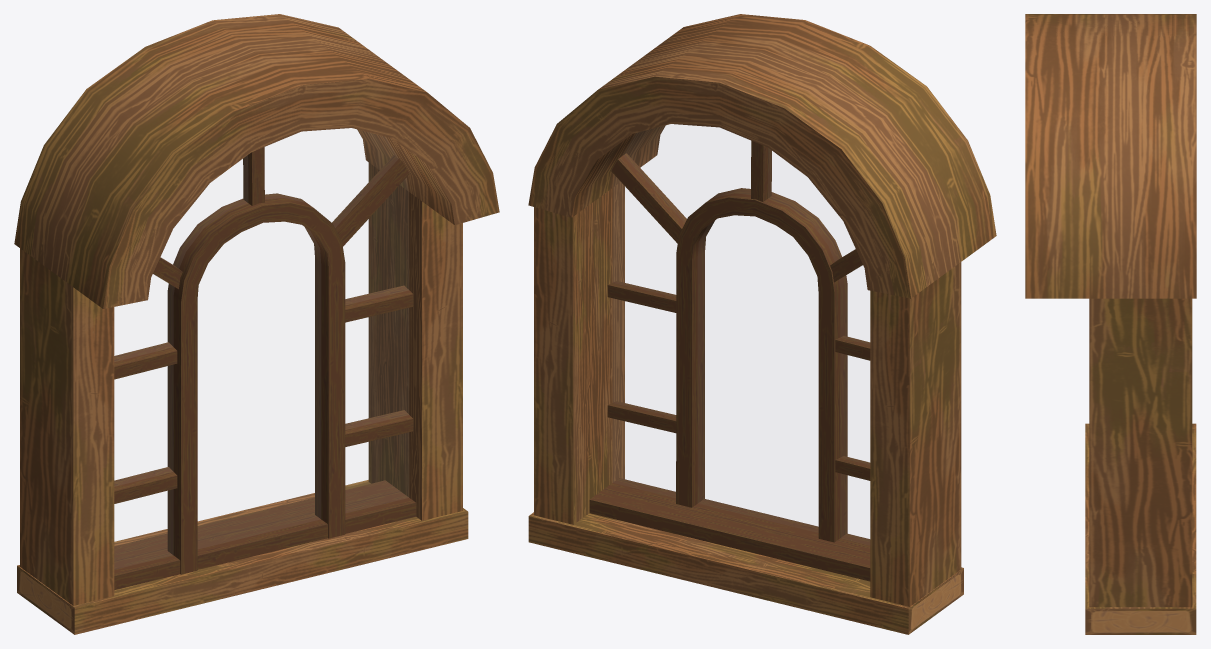
Rendered from cottage-window.glb.
3 renders of one model, left to right at view 1: azimuth 30°, elevation 25°; view 2: azimuth 150°, elevation 25°; view 3: azimuth 270°, elevation 25°, orthographic. The views are drawn at different scales.
Visible parts, largest first — view 1: Window_Wide_Round1; view 2: Window_Wide_Round1; view 3: Window_Wide_Round1.
Boxes of the visible parts, x1,y1,x2,y2 form: Window_Wide_Round1: (14, 14, 499, 634); Window_Wide_Round1: (528, 14, 996, 634); Window_Wide_Round1: (1025, 14, 1196, 634).
Bounding box in the file's own units: 1.36 × 1.73 × 0.5296.
Materials: 2 (1 with a texture image).
